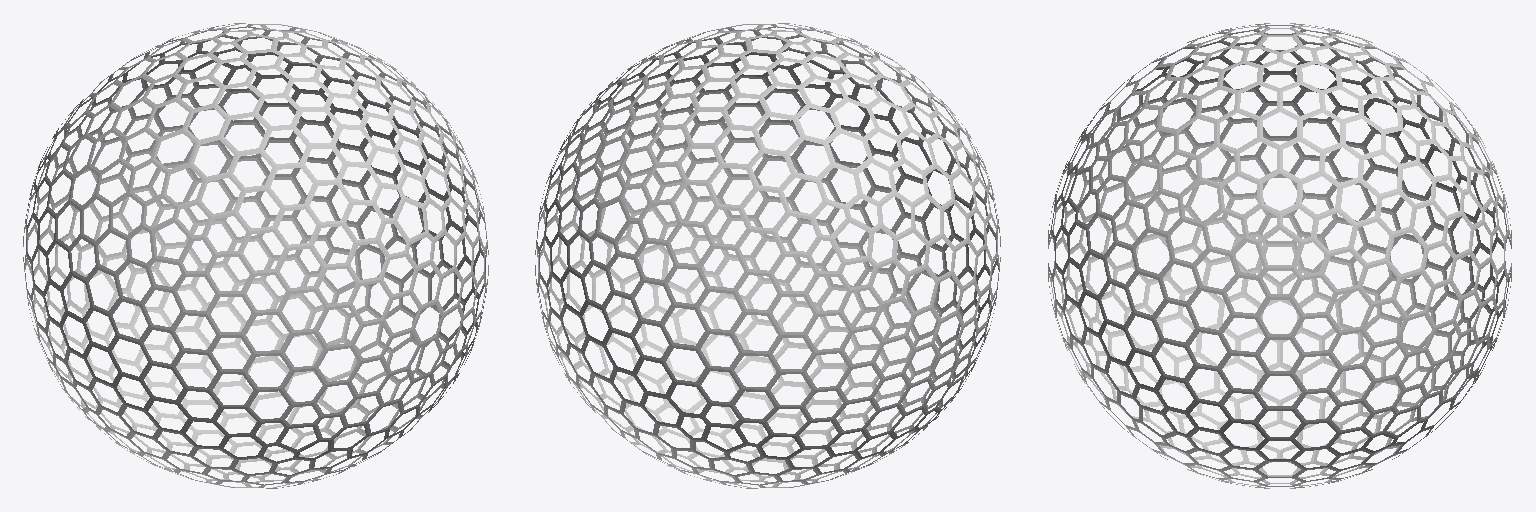
File: NewForceField.obj
3 renders of one model, left to right at view 1: azimuth 30°, elevation 25°; view 2: azimuth 150°, elevation 25°; view 3: azimuth 270°, elevation 25°, orthographic.
Parts seen in each view (by area): view 1: Icosphere; view 2: Icosphere; view 3: Icosphere.
Boxes of the visible parts, x1,y1,x2,y2 form: Icosphere: [23, 23, 488, 488]; Icosphere: [535, 23, 1000, 488]; Icosphere: [1048, 23, 1511, 488].
Size of the model in its own units: 1.74 by 1.75 by 1.74.